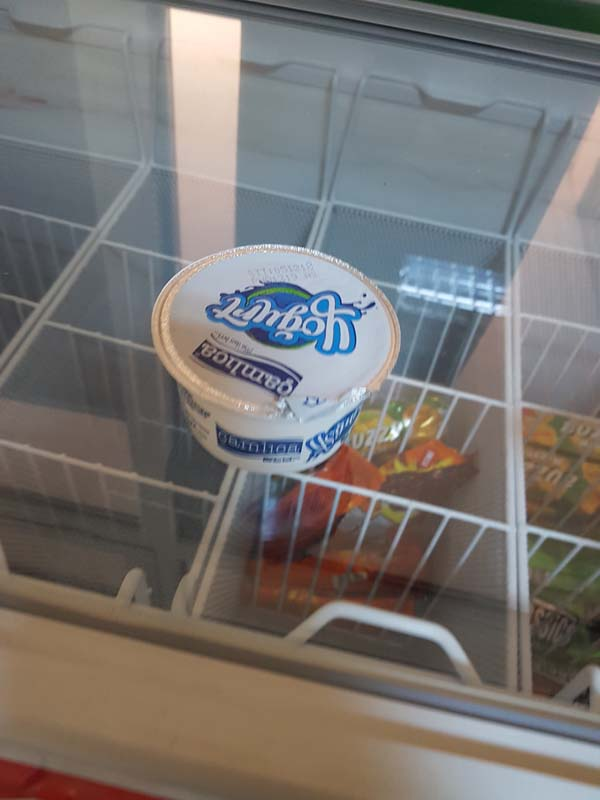camlicayogurt: (146, 228, 410, 483)
